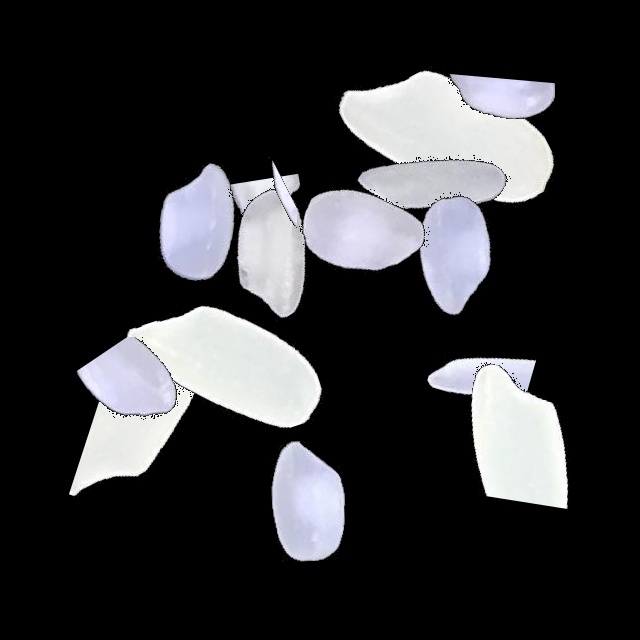Broken: (440, 292, 607, 542), (51, 341, 301, 499), (23, 337, 273, 487), (341, 300, 591, 431), (429, 16, 555, 266), (217, 106, 322, 356), (196, 95, 297, 345)
Full: (326, 15, 576, 265), (70, 97, 320, 347), (308, 52, 558, 302), (328, 127, 578, 377), (100, 247, 350, 497), (149, 131, 399, 381), (235, 101, 485, 351), (184, 377, 434, 627)
